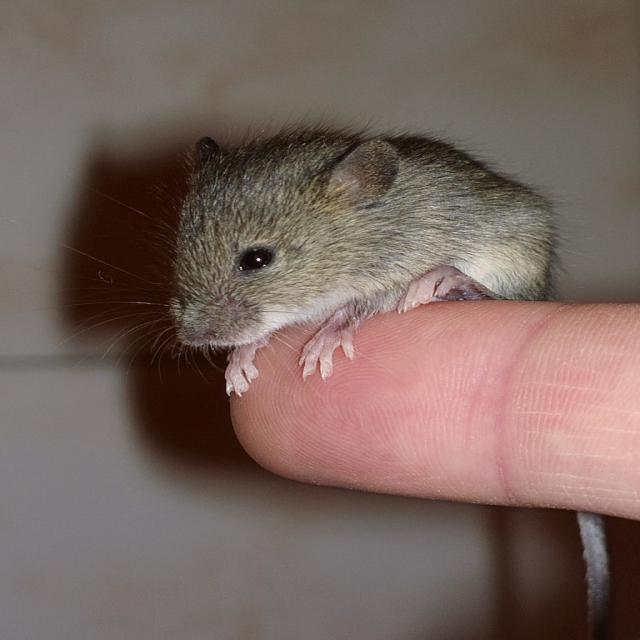rat: (167, 128, 562, 400)
